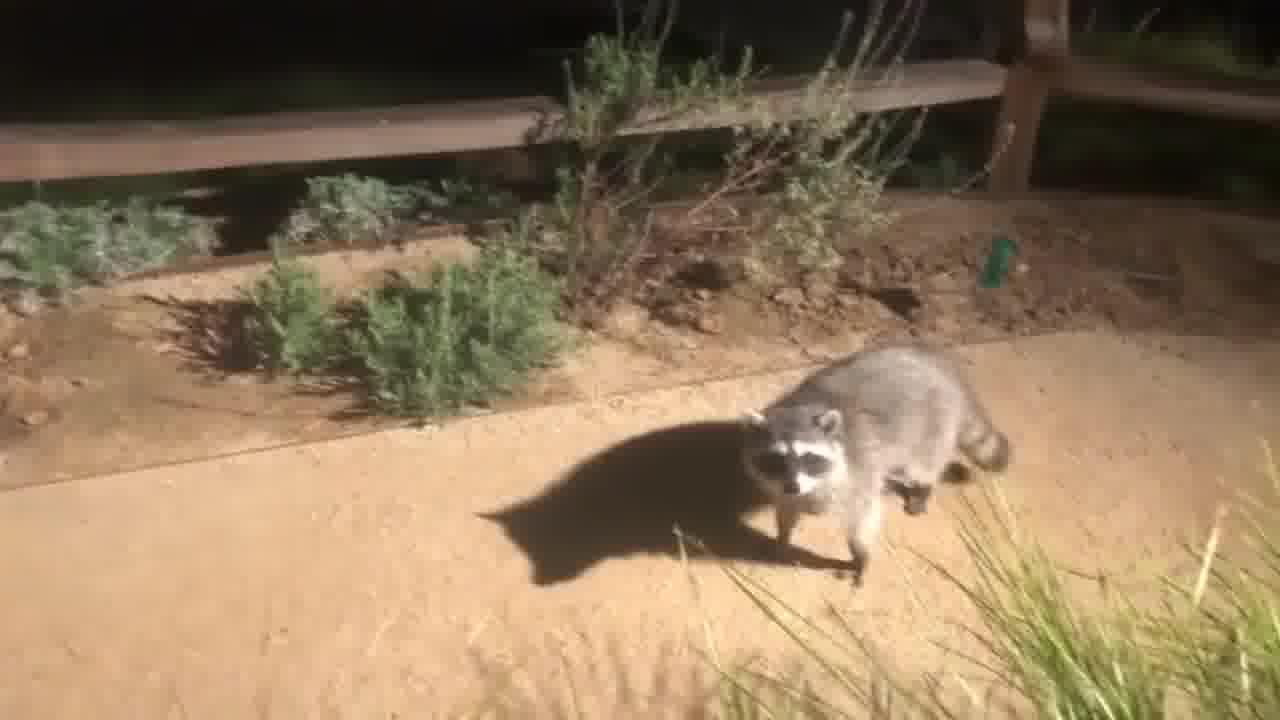raccoon: (725, 329, 1020, 595)
